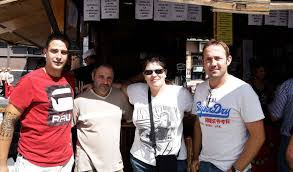person: (30, 31, 69, 130), (194, 46, 253, 111), (137, 55, 181, 116), (82, 69, 123, 133)
